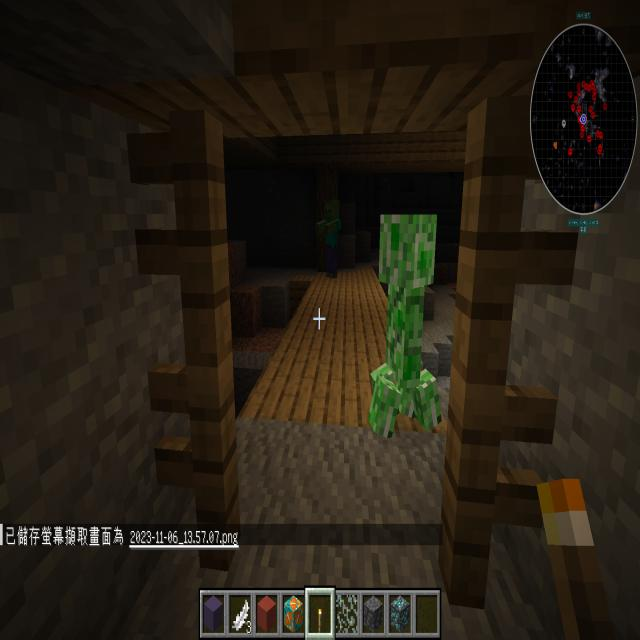Creeper: (368, 204, 448, 456)
Zombie: (312, 190, 348, 286)
